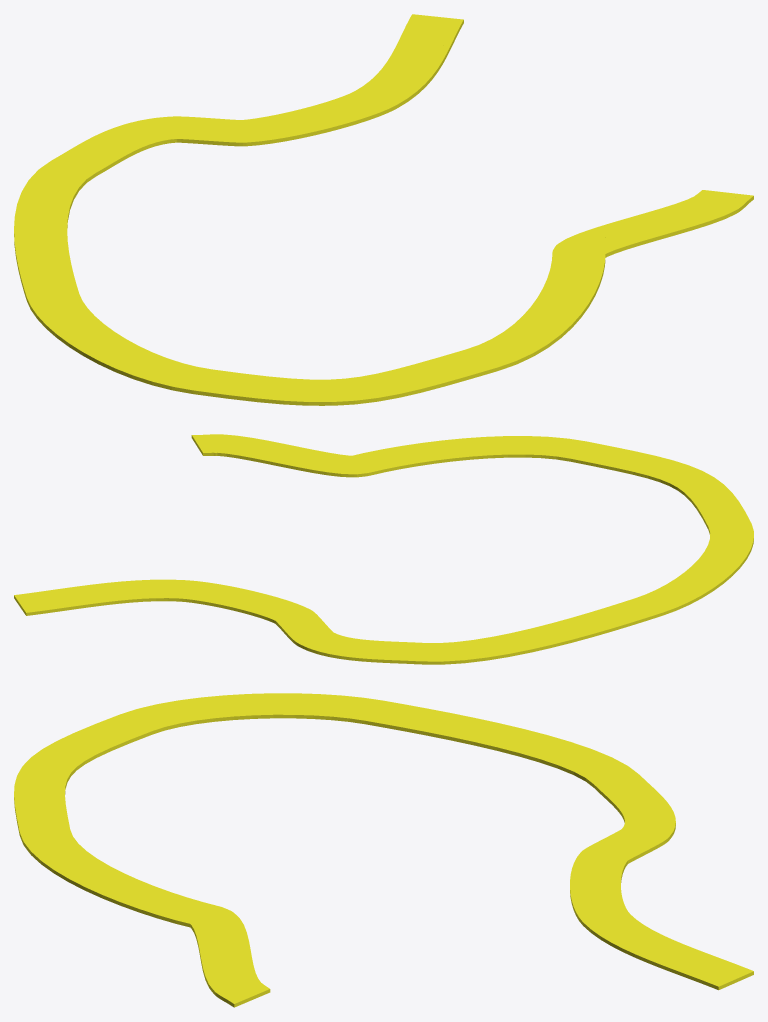
Rendered from Island3Path2.glb.
3 renders of one model, top to bottom at view 1: azimuth 30°, elevation 25°; view 2: azimuth 150°, elevation 25°; view 3: azimuth 270°, elevation 25°, orthographic. The views are drawn at different scales.
Visible parts, largest first — view 1: Island3_path2; view 2: Island3_path2; view 3: Island3_path2.
Part boxes in pixels (x1=…): Island3_path2: x1=14, y1=14, x2=753, y2=405; Island3_path2: x1=14, y1=434, x2=753, y2=664; Island3_path2: x1=14, y1=693, x2=753, y2=1007.
Size of the model in its own units: 28.86 by 0.1551 by 29.04.
